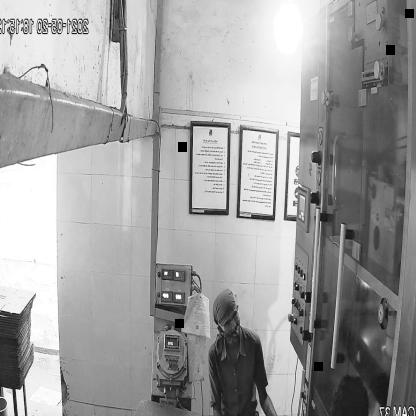goggles: (216, 306, 244, 338)
